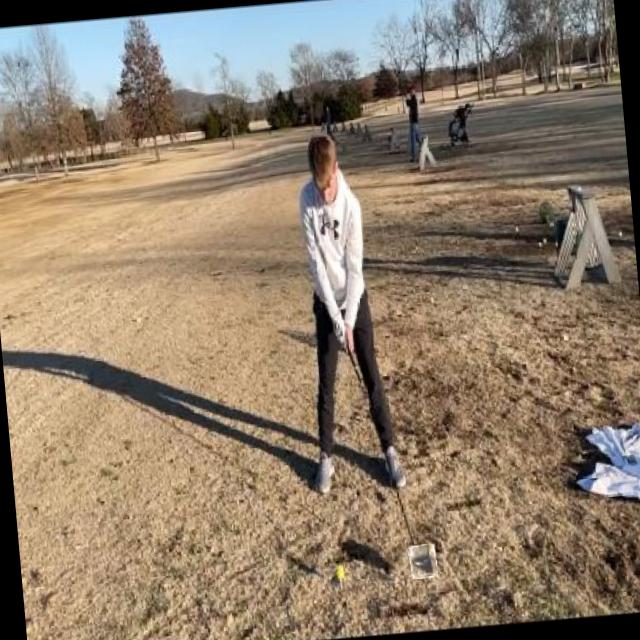club head: (408, 543, 438, 579)
